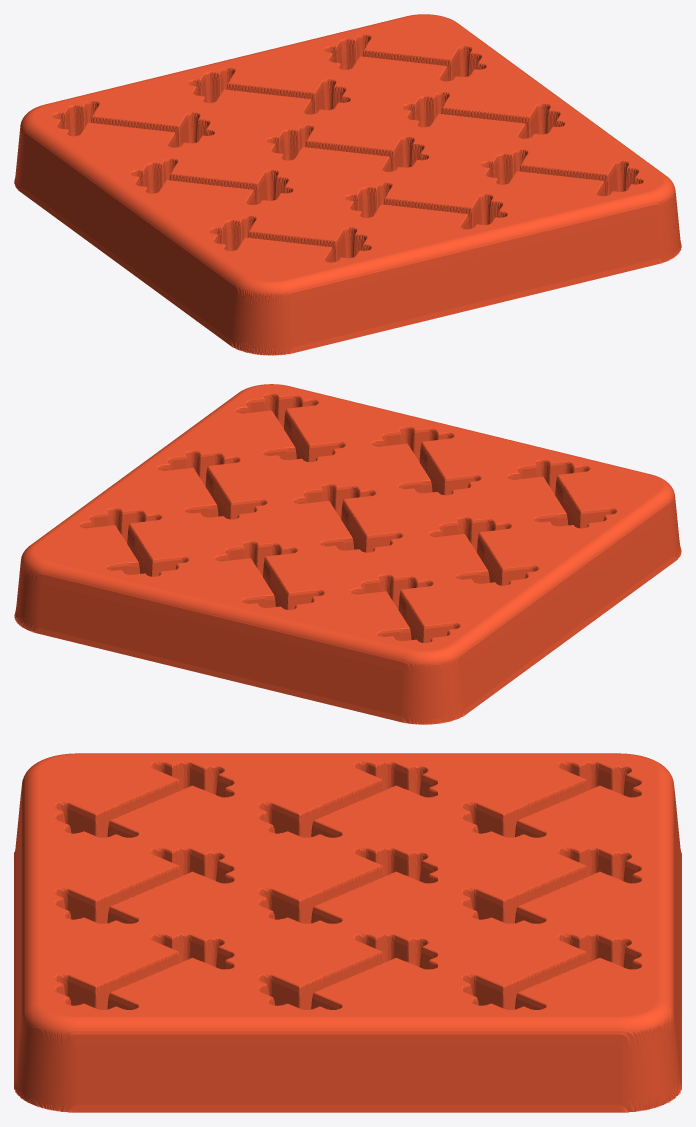
Rendered from mold.glb.
3 renders of one model, top to bottom at view 1: azimuth 30°, elevation 25°; view 2: azimuth 150°, elevation 25°; view 3: azimuth 270°, elevation 25°, orthographic. The views are drawn at different scales.
Parts seen in each view (by area): view 1: geometry_0; view 2: geometry_0; view 3: geometry_0.
Boxes of the visible parts, bbox=[...] form: geometry_0: bbox=[14, 14, 681, 355]; geometry_0: bbox=[14, 384, 681, 724]; geometry_0: bbox=[14, 753, 681, 1112].
Size of the model in its own units: 0.0964 by 0.0136 by 0.0964.
